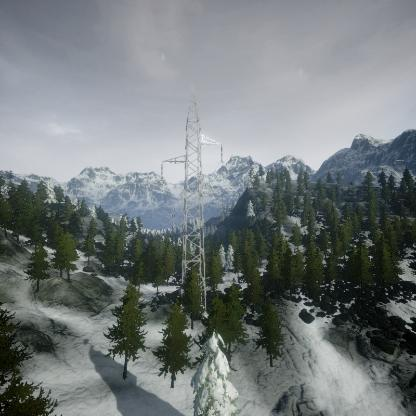tower: (158, 92, 222, 321)
